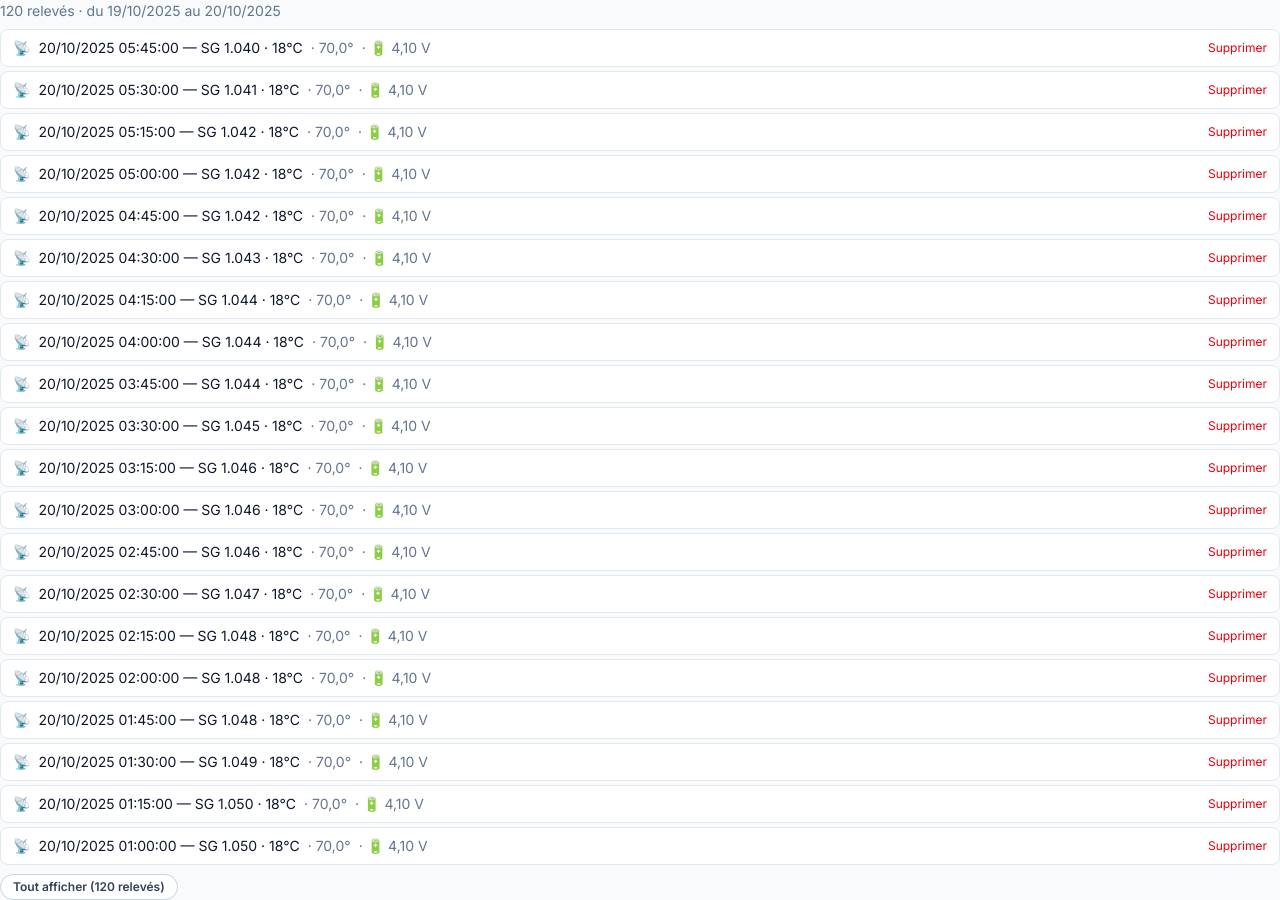
Test: Suivi de fermentation › n’affiche que les 20 relevés les plus récents, puis tout à la demande
(page scrolled)
Expected: the text "120 relevés · du 19/10/2025 au 20/10/2025" is shown, [0,2,281,19]
Click the button "Tout afficher (120 relevés)" at (89, 887), box [0,874,178,899]
(page scrolled)
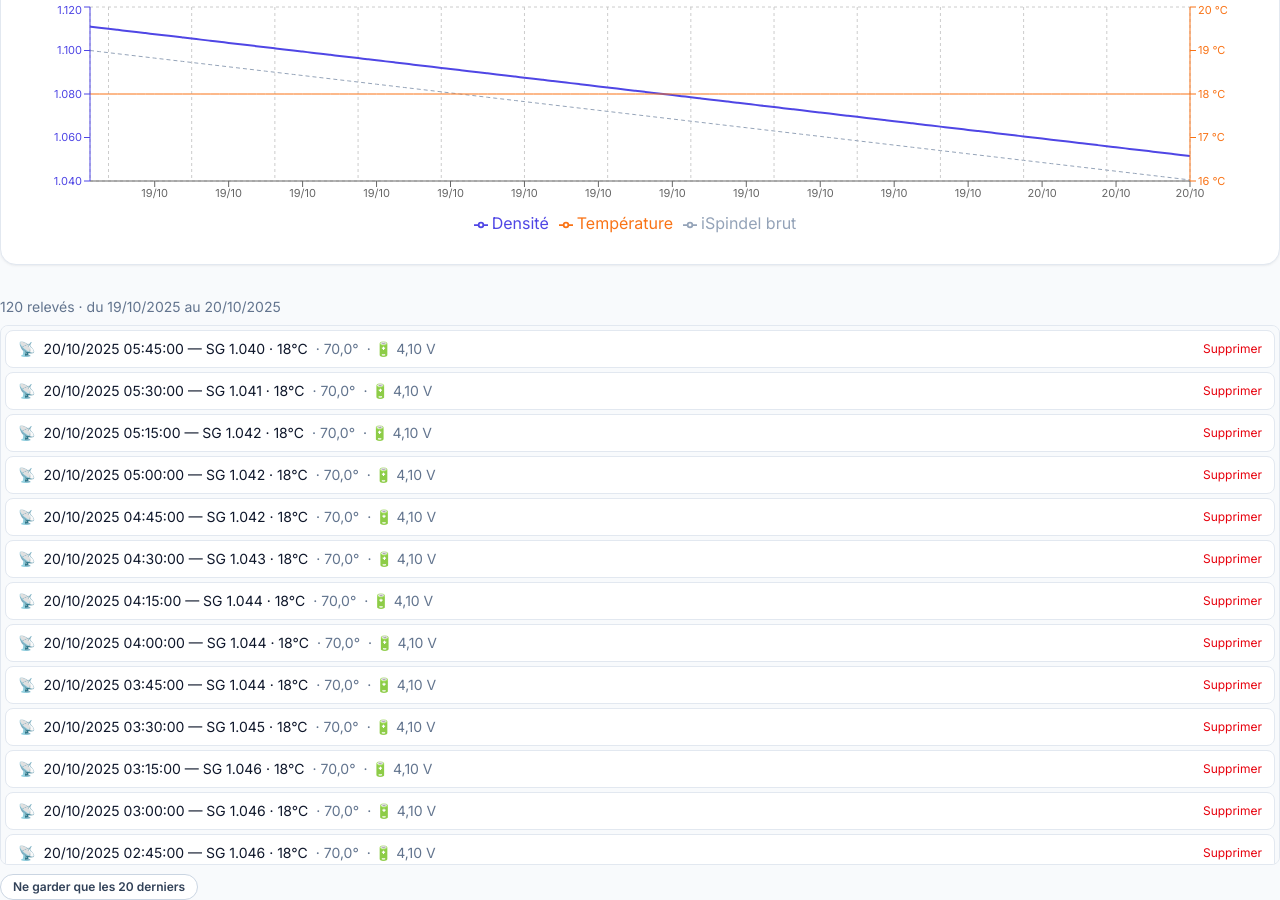
Result: the number of buttons "Supprimer" is 120
